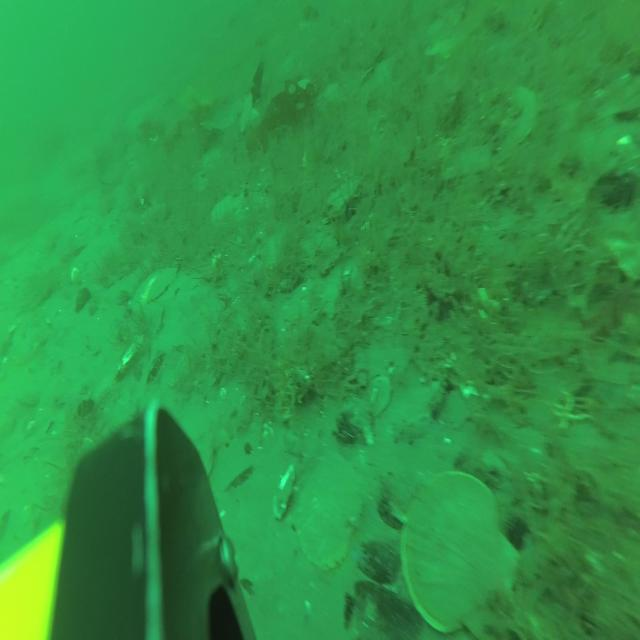scallop: (404, 470, 519, 640), (298, 454, 365, 570), (178, 410, 228, 485), (496, 87, 535, 154), (132, 263, 178, 309), (210, 194, 246, 226)
